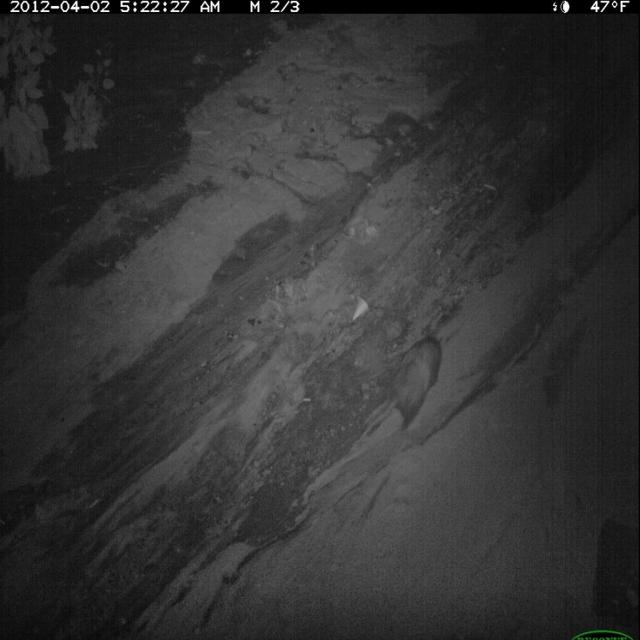opossum: (351, 329, 446, 450)
